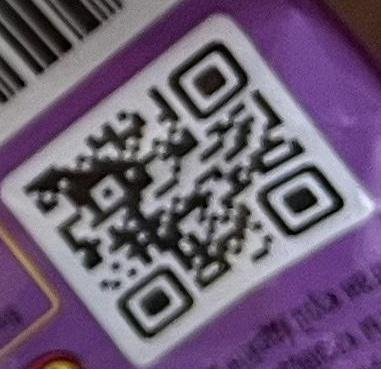qrcode: (23, 40, 345, 340)
